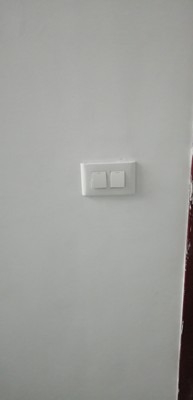switch: (106, 169, 130, 189), (88, 168, 108, 191)
